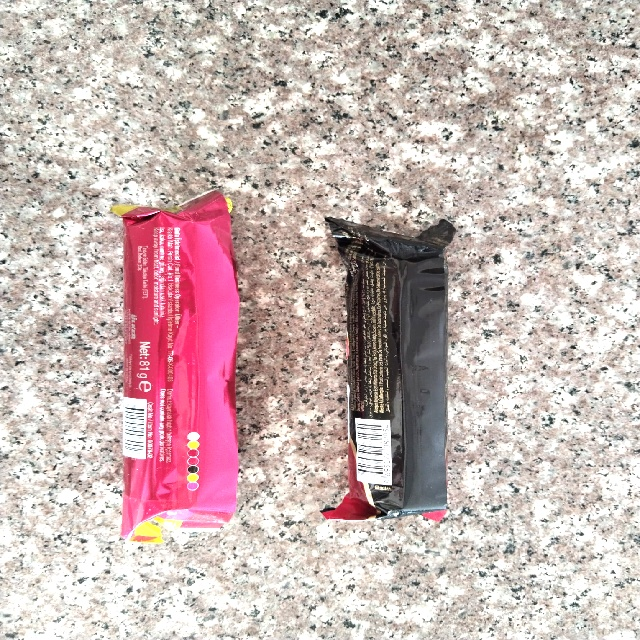susse_biskuvi: (322, 215, 450, 522)
ulker_cokoprens_biskuvi: (115, 192, 238, 542)
